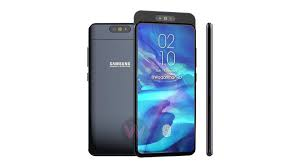samsung: (132, 9, 200, 159), (86, 22, 137, 160)
